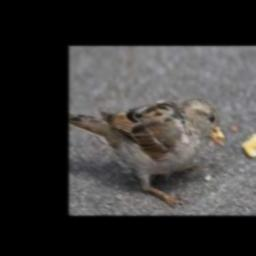Sparrow: (69, 97, 228, 207)
